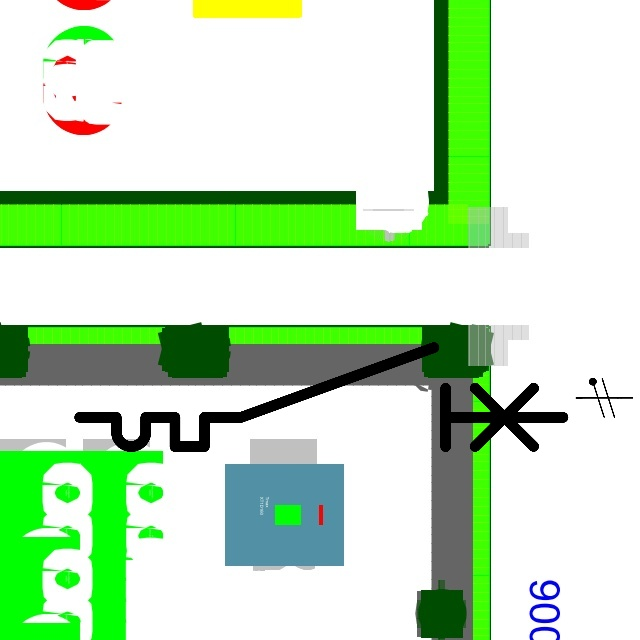interruptor_termomagnetico: (67, 335, 575, 459)
